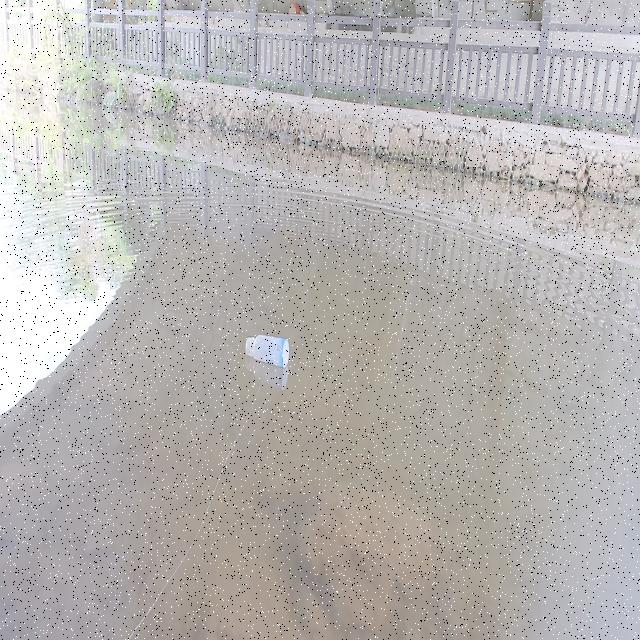Bottle: (242, 325, 292, 370)
